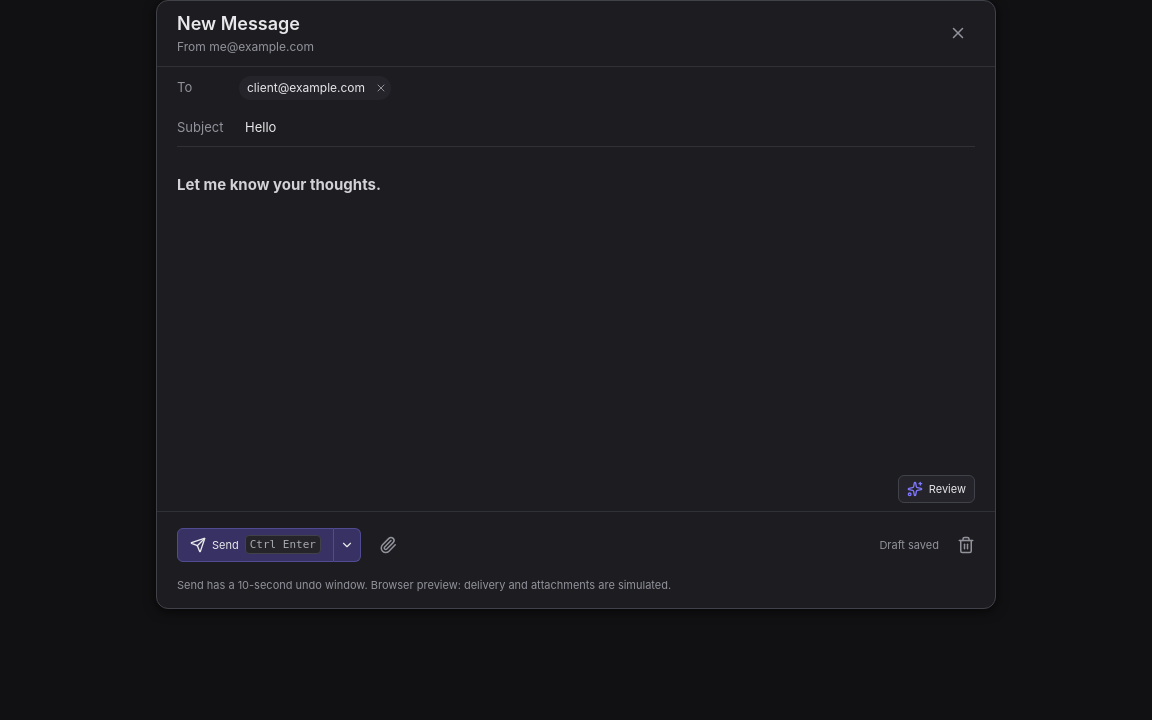
Draft review in the composer › reveals the revised draft after collapsing and restores the review on undo
Click the button "Review" at point(936, 489), box [898,475,975,503]
(page scrolled)
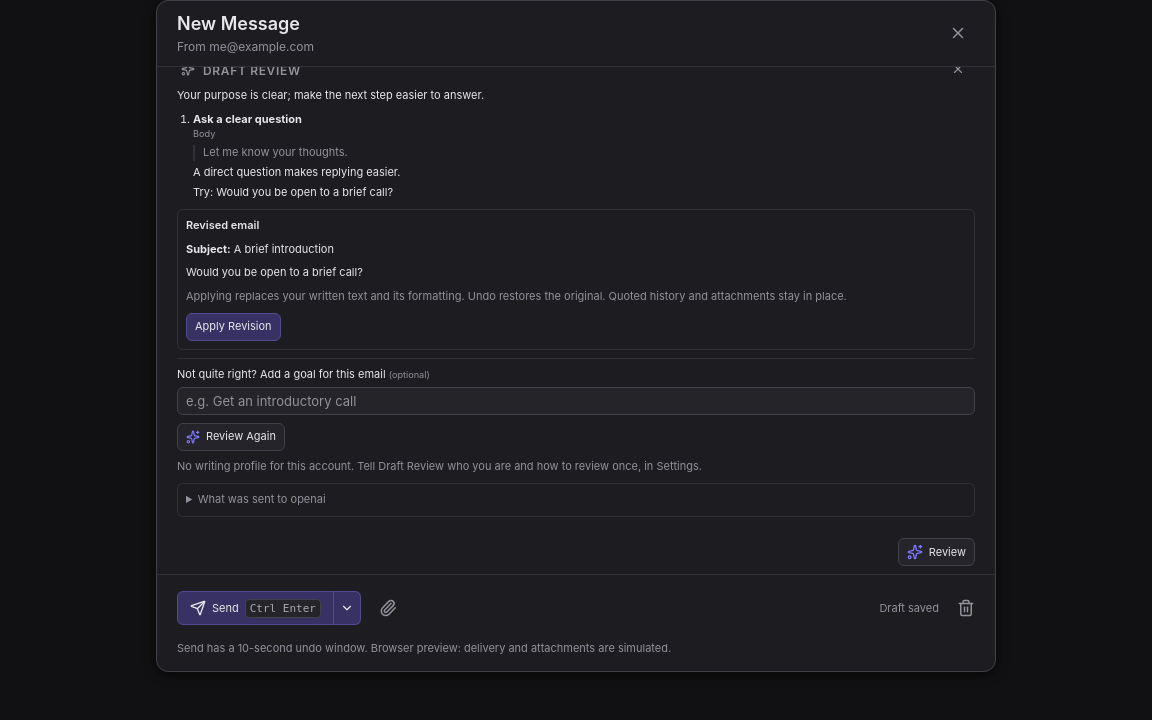
Expected: the text "Your purpose is clear; make the next step easier to answer." is shown, [177,88,484,102]
Click the button "Apply Revision" at point(233, 327), box [186,313,281,341]
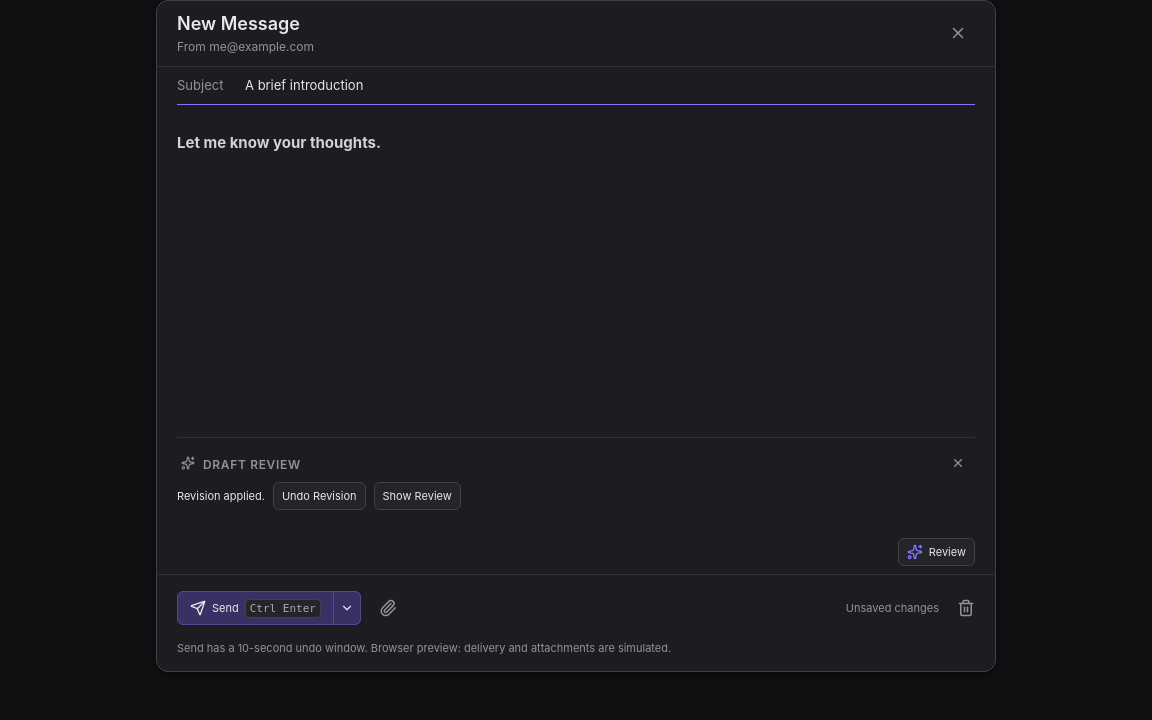
Expected: the text "Your purpose is clear; make the next step easier to answer." is gone
Click the button "Show Review" at point(417, 496), box [374,482,461,510]
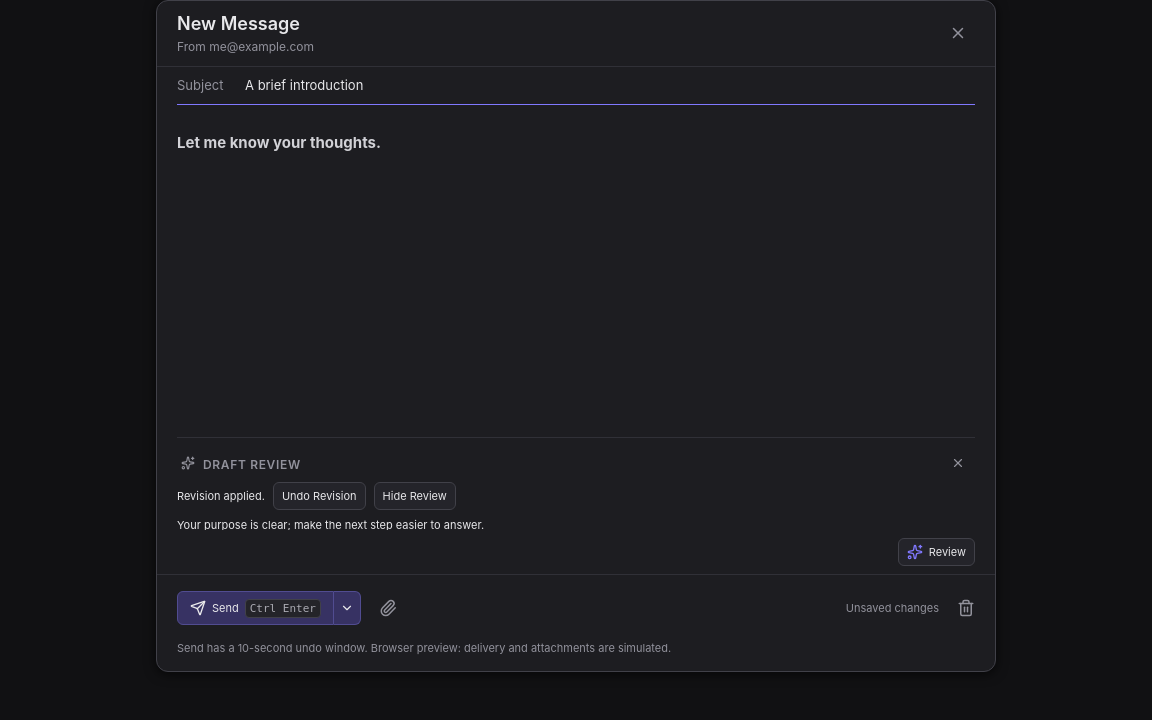
Expected: the text "Your purpose is clear; make the next step easier to answer." is shown, [177,518,484,530]
Click the button "Hide Review" at point(415, 496), box [374,482,456,510]
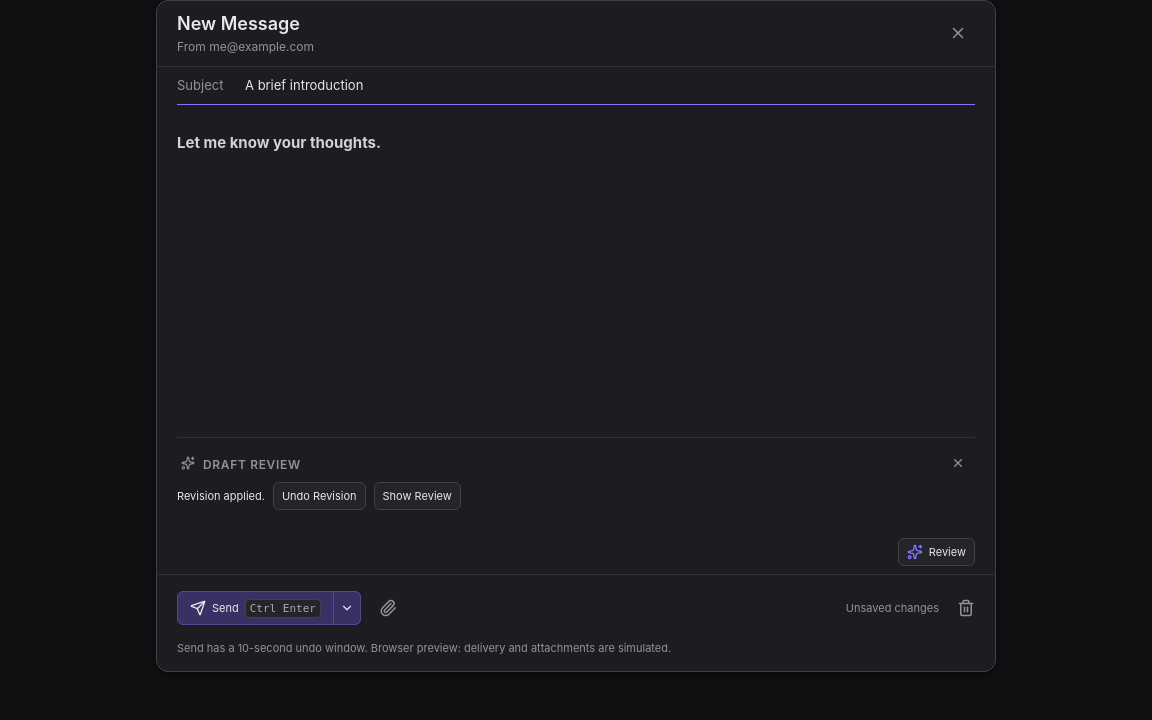
Click the button "Undo Revision" at point(319, 496), box [273,482,366,510]
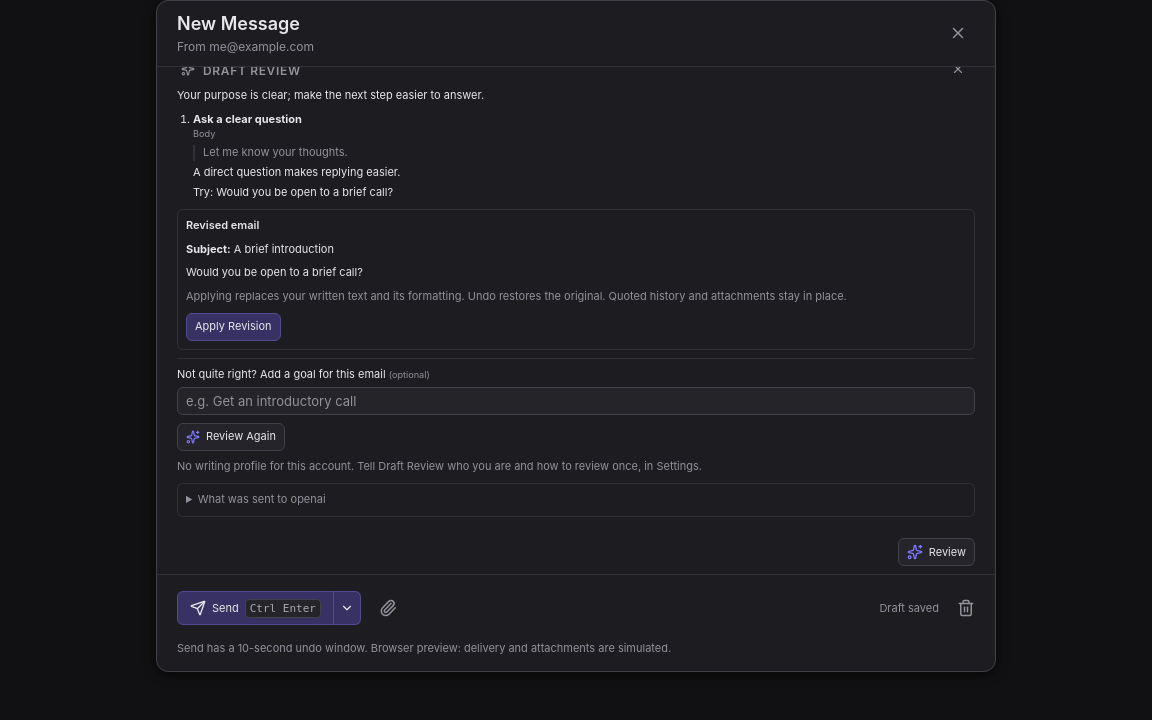
Expected: the button "Apply Revision" is enabled, [186,313,281,341]
Expected: the text "Your purpose is clear; make the next step easier to answer." is shown, [177,88,484,102]
Expected: the button "Show Review" is gone
